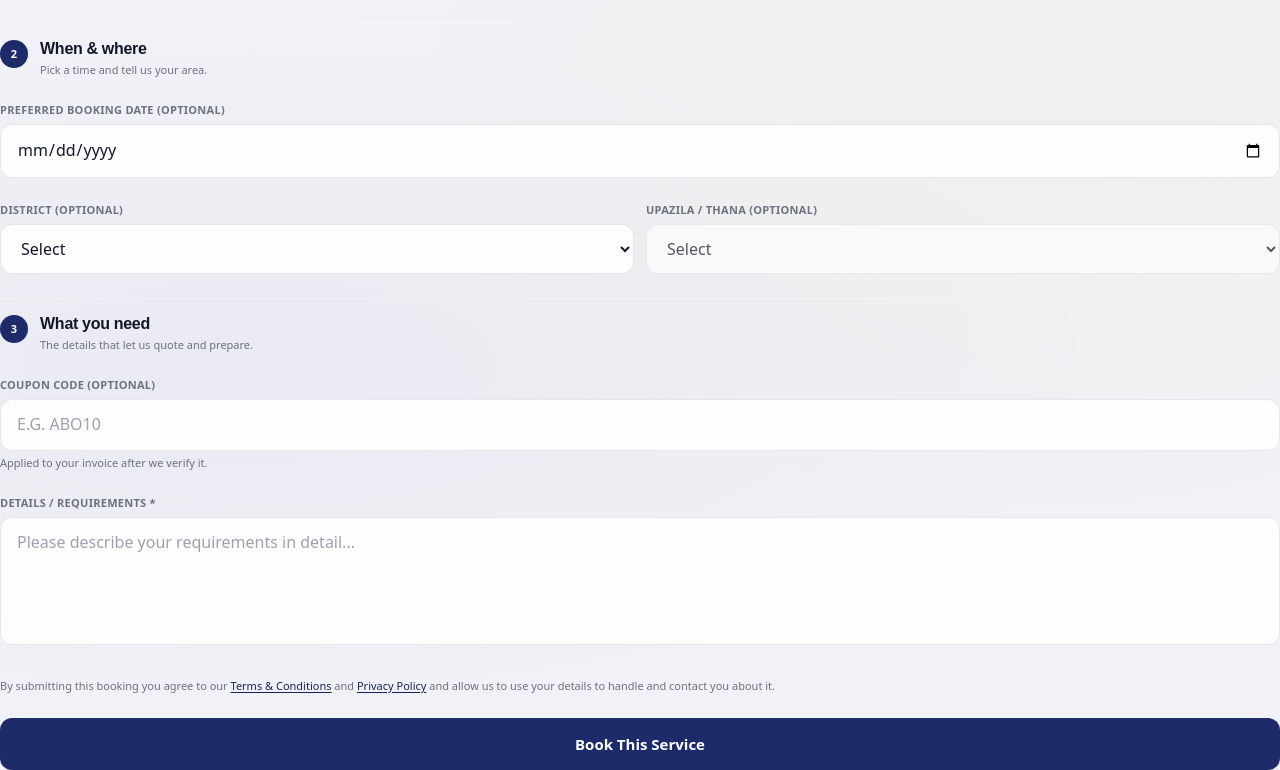
Test: Booking Form › should validate required fields
(page scrolled)
Step 1. Click the button "Book This Service" → click(640, 744), box [0,718,1279,769]
(page scrolled)
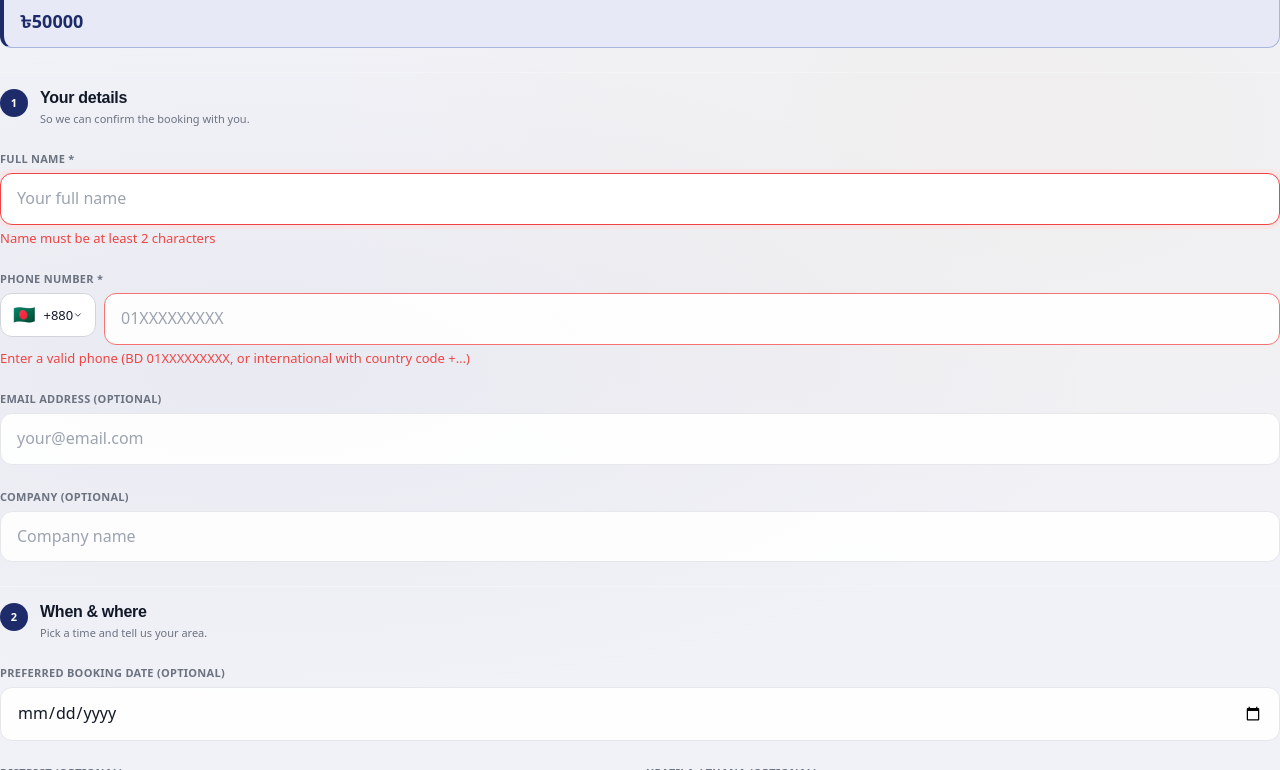
Expected: the text "Name must be at least 2 characters" is shown, [0,229,216,247]
